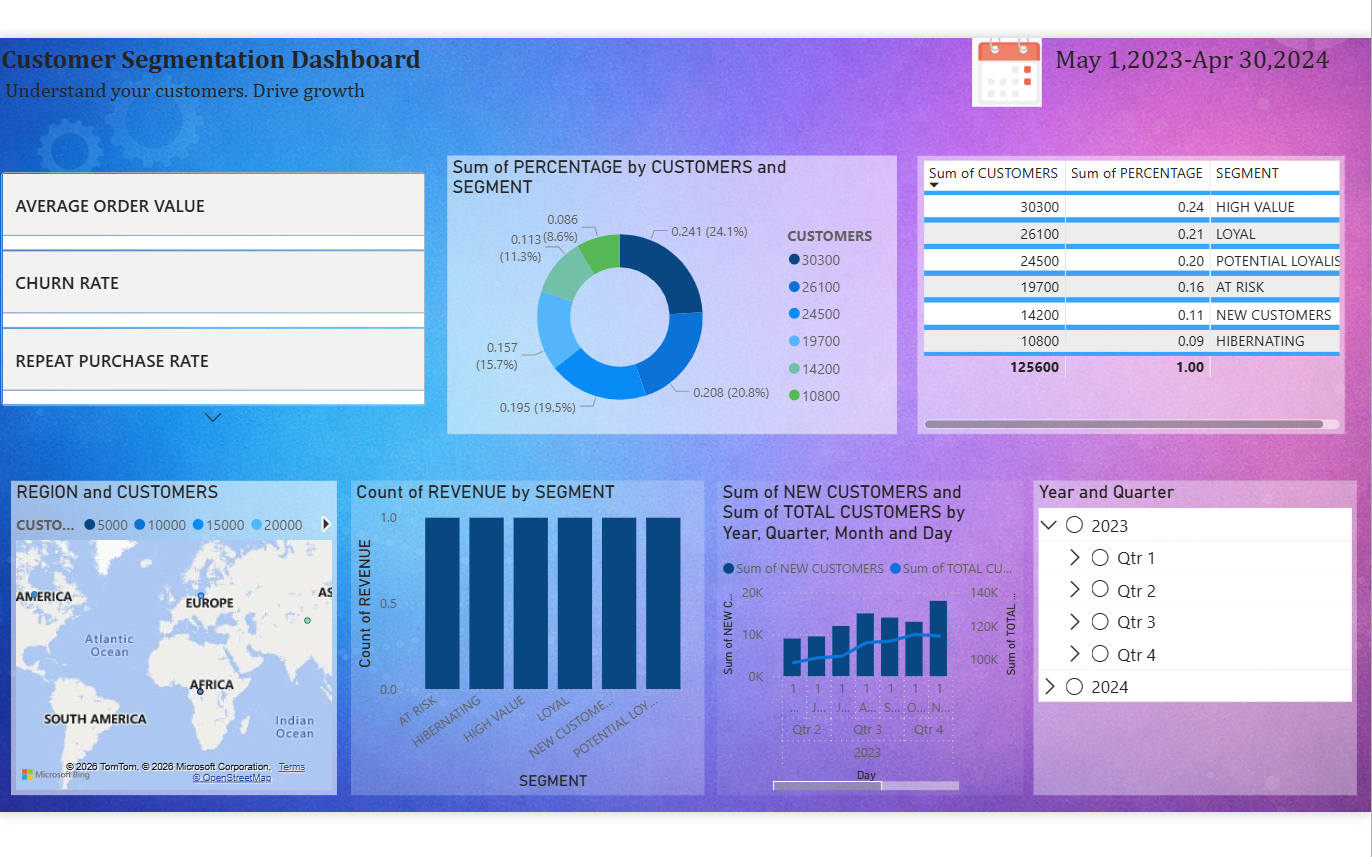

Layout of this report page (visuals, bound fields, positions):
{"tool":"powerbi","page":{"name":"Page 10","canvas":[1280,720],"ordinal":9},"visuals":[{"type":"cardVisual","fields":{"Data":["Min(Table (11).VALUE)"],"Rows":["Table (11).KPI "]},"box":[0,100,404.7,268.6],"z":0},{"type":"donutChart","fields":{"Category":["Table (13).CUSTOMERS"],"Y":["Sum(Table (13).PERCENTAGE)"],"Series":["Table (13).SEGMENT"]},"box":[419.8,109.3,418.6,259.3],"z":1000},{"type":"tableEx","fields":{"Values":["Sum(Table (13).CUSTOMERS)","Sum(Table (13).PERCENTAGE)","Table (13).SEGMENT"]},"box":[857,109.3,397.7,259.3],"z":2000},{"type":"clusteredColumnChart","fields":{"Category":["Table (12).SEGMENT"],"Y":["CountNonNull(Table (12).REVENUE)"]},"box":[330.2,411.6,329.1,293],"z":3000},{"type":"map","fields":{"Category":["Table (15).REGION"],"Series":["Table (15).CUSTOMERS"]},"box":[14,411.6,303.5,293],"z":4000},{"type":"lineClusteredColumnComboChart","fields":{"Y2":["Sum(Table (14).TOTAL CUSTOMERS)"],"Category":["Table (14).MONTH.Variation.Date Hierarchy.Year","Table (14).MONTH.Variation.Date Hierarchy.Quarter","Table (14).MONTH.Variation.Date Hierarchy.Month","Table (14).MONTH.Variation.Date Hierarchy.Day"],"Y":["Sum(Table (14).NEW CUSTOMERS)"]},"box":[670.9,411.6,284.9,293],"z":5000},{"type":"listSlicer","fields":{"Values":["Table (14).MONTH.Variation.Date Hierarchy.Year","Table (14).MONTH.Variation.Date Hierarchy.Quarter","Table (14).MONTH.Variation.Date Hierarchy.Month","Table (14).MONTH.Variation.Date Hierarchy.Day"]},"box":[965.1,411.6,301.2,293],"z":6000},{"type":"textbox","box":[0,0,419.8,48.8],"z":6001},{"type":"textbox","box":[0,32.6,444.2,39.5],"z":6002},{"type":"image","box":[825.6,0,230.2,64],"z":6003},{"type":"textbox","box":[980.2,0,300,64],"z":6004}]}

Visuals, with their boxes on the page's 1280x720 design canvas (x1, y1, x2, y2). These are canvas units, not pixel positions in the 1372x857 screenshot, which may show the page scaled, cropped or inside an application window:
cardVisual - Min(Table (11).VALUE) x Table (11).KPI : l=0, t=100, r=405, b=369
donutChart - Table (13).CUSTOMERS x Sum(Table (13).PERCENTAGE): l=420, t=109, r=838, b=369
tableEx - Sum(Table (13).CUSTOMERS) x Sum(Table (13).PERCENTAGE): l=857, t=109, r=1255, b=369
clusteredColumnChart - Table (12).SEGMENT x CountNonNull(Table (12).REVENUE): l=330, t=412, r=659, b=705
map - Table (15).REGION x Table (15).CUSTOMERS: l=14, t=412, r=318, b=705
lineClusteredColumnComboChart - Sum(Table (14).TOTAL CUSTOMERS) x Table (14).MONTH.Variation.Date Hierarchy.Year: l=671, t=412, r=956, b=705
listSlicer - Table (14).MONTH.Variation.Date Hierarchy.Year x Table (14).MONTH.Variation.Date Hierarchy.Quarter: l=965, t=412, r=1266, b=705
textbox: l=0, t=0, r=420, b=49
textbox: l=0, t=33, r=444, b=72
image: l=826, t=0, r=1056, b=64
textbox: l=980, t=0, r=1280, b=64
